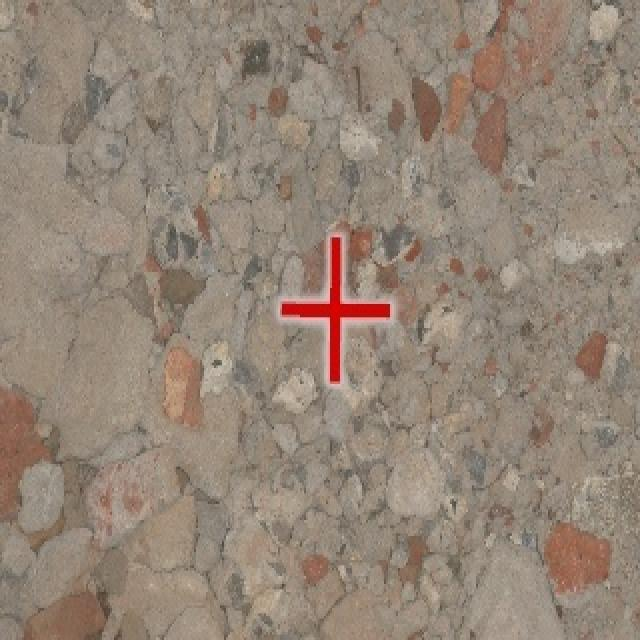x_marker: (279, 236, 391, 383)
